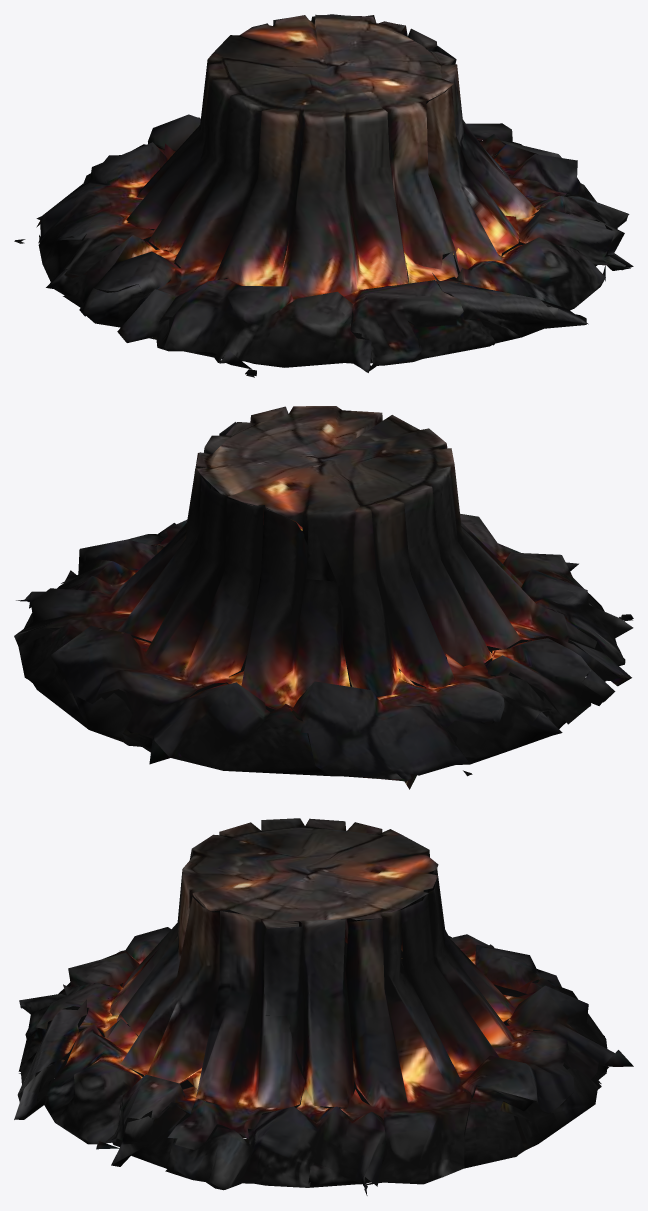
The model's file is burnt-stump.glb.
The picture shows the model from 3 angles, top to bottom: view 1: azimuth 30°, elevation 25°; view 2: azimuth 150°, elevation 25°; view 3: azimuth 270°, elevation 25°; orthographic projection. The views are drawn at different scales.
Parts seen in each view (by area): view 1: model; view 2: model; view 3: model.
Part boxes in pixels (bbox=[...]): model: bbox=[14, 14, 633, 377]; model: bbox=[14, 406, 633, 789]; model: bbox=[14, 818, 633, 1195].
Size of the model in its own units: 2.87 by 1 by 2.77.
1 material, 1 textured.
